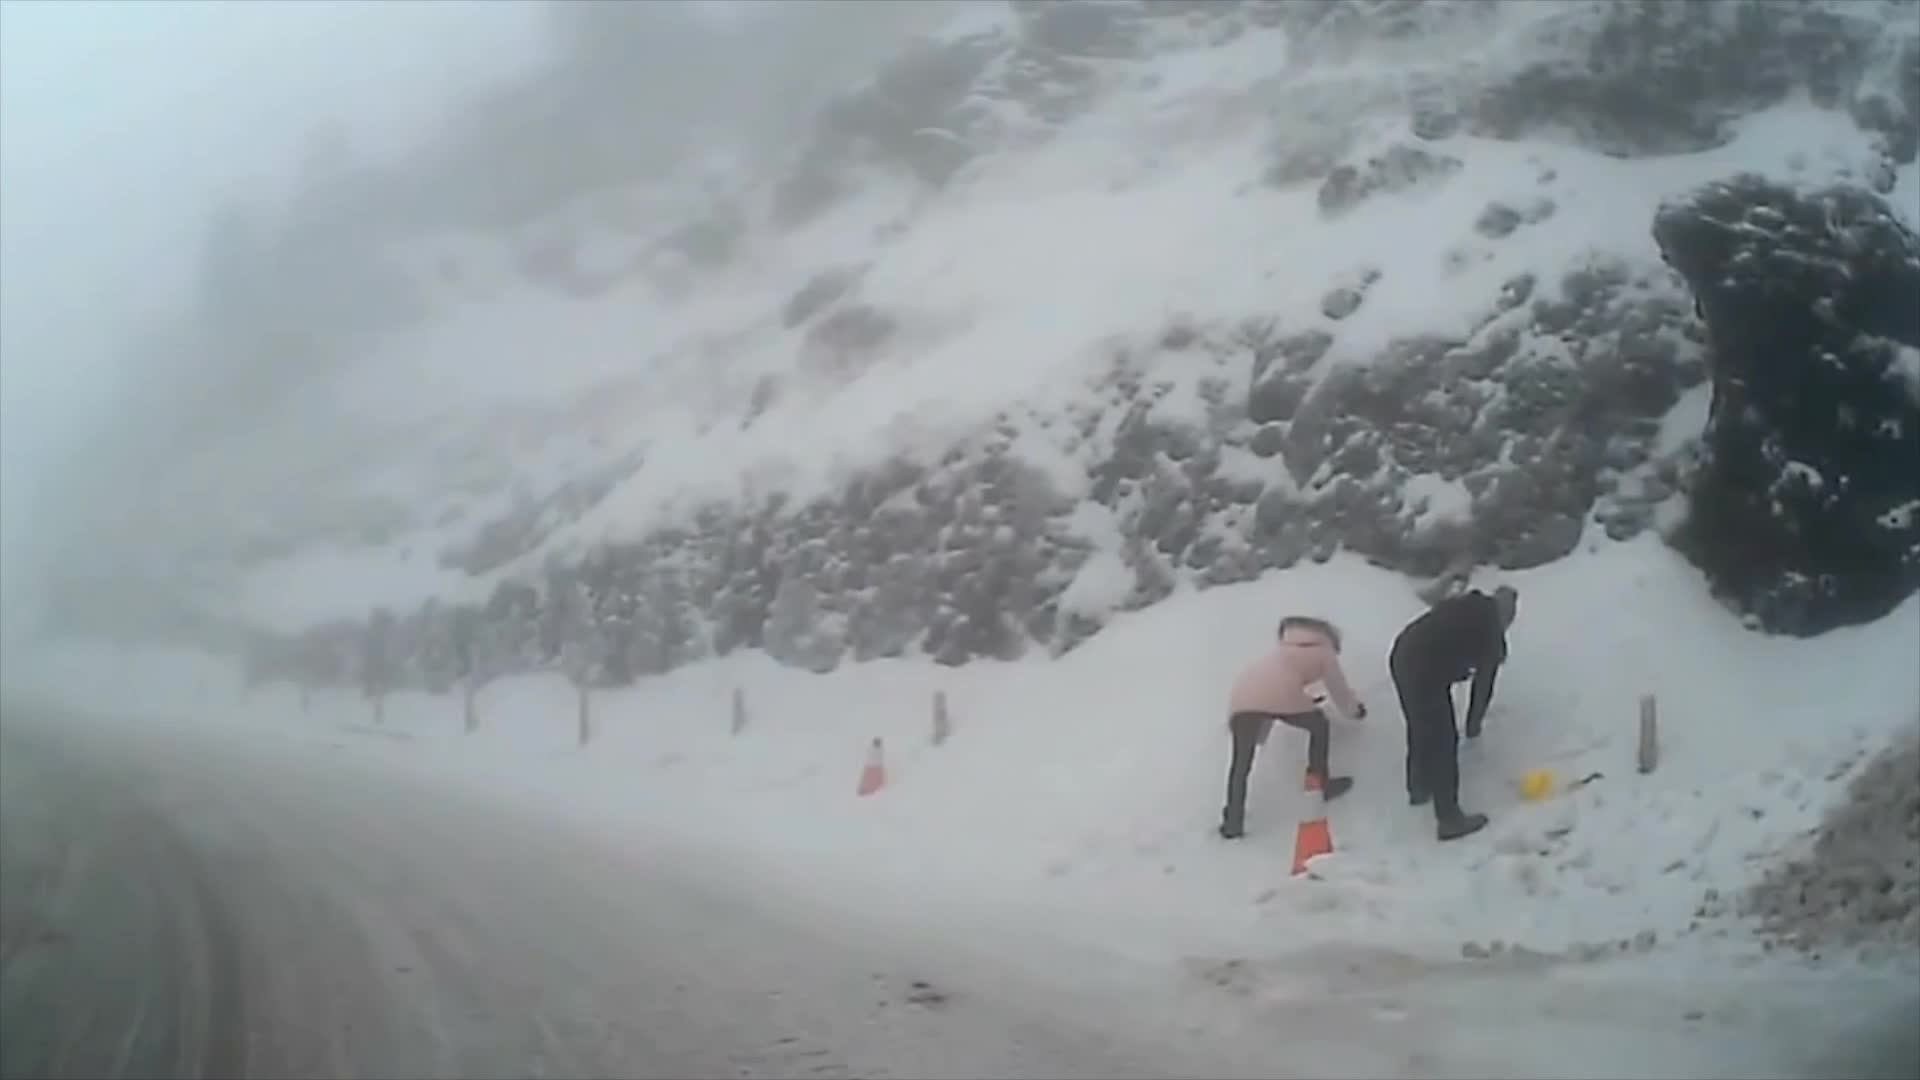pedestrian: (1218, 614, 1370, 849), (1389, 590, 1521, 845)
